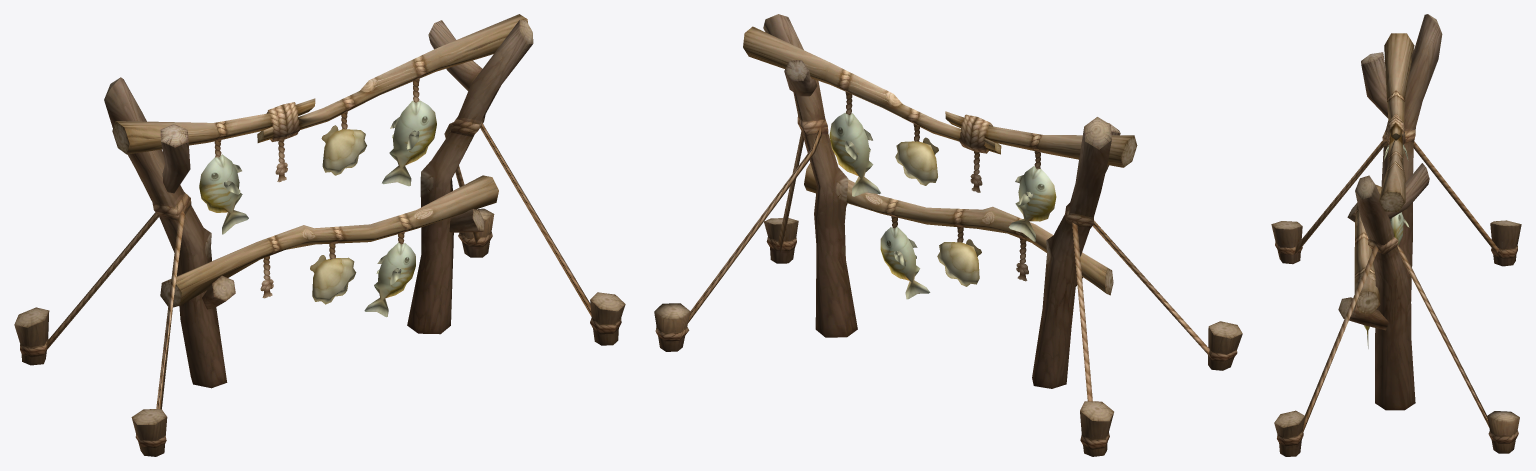
3 views of the same model, side by side, from view 1: azimuth 30°, elevation 25°; view 2: azimuth 150°, elevation 25°; view 3: azimuth 270°, elevation 25° (orthographic). The views are drawn at different scales.
Parts seen in each view (by area): view 1: UC304; view 2: UC304; view 3: UC304.
Boxes of the visible parts, <box> form: UC304: <box>14,14,625,456</box>; UC304: <box>654,14,1242,456</box>; UC304: <box>1271,14,1521,456</box>.
Size of the model in its own units: 18.48 by 11.02 by 9.4.
